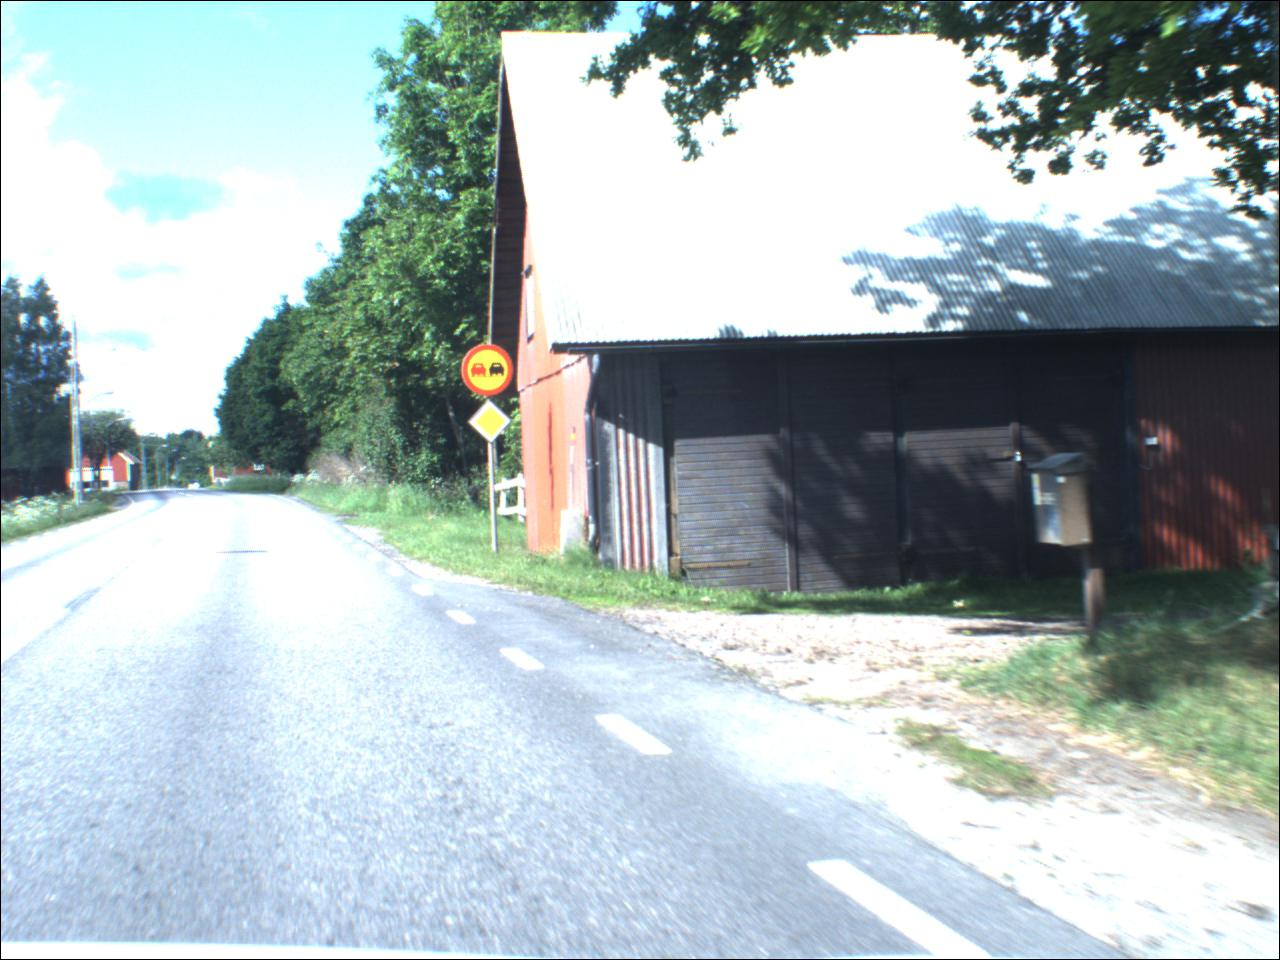PRIORITY_ROAD: (470, 400, 514, 446)
